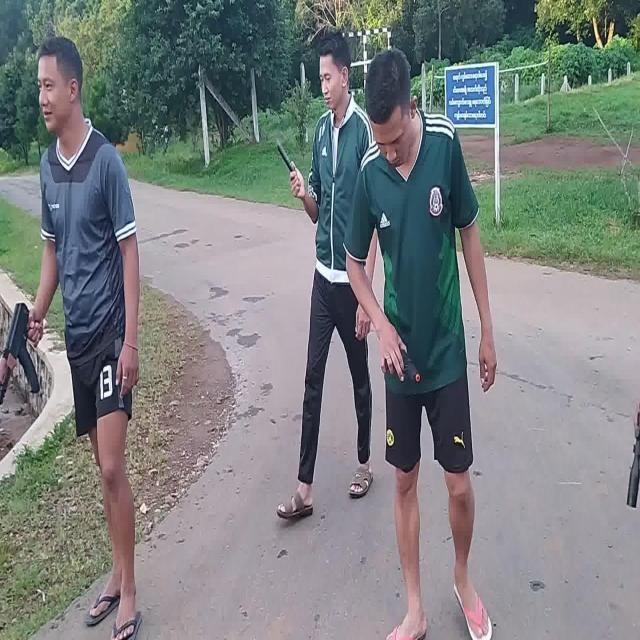gun: (2, 303, 40, 407), (386, 348, 420, 382)
